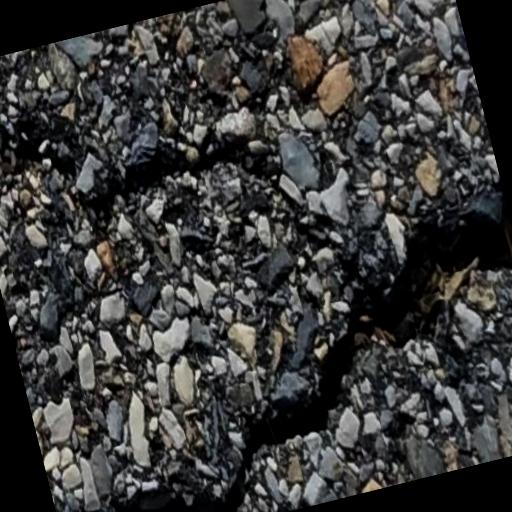spalling: (70, 192, 512, 512)
